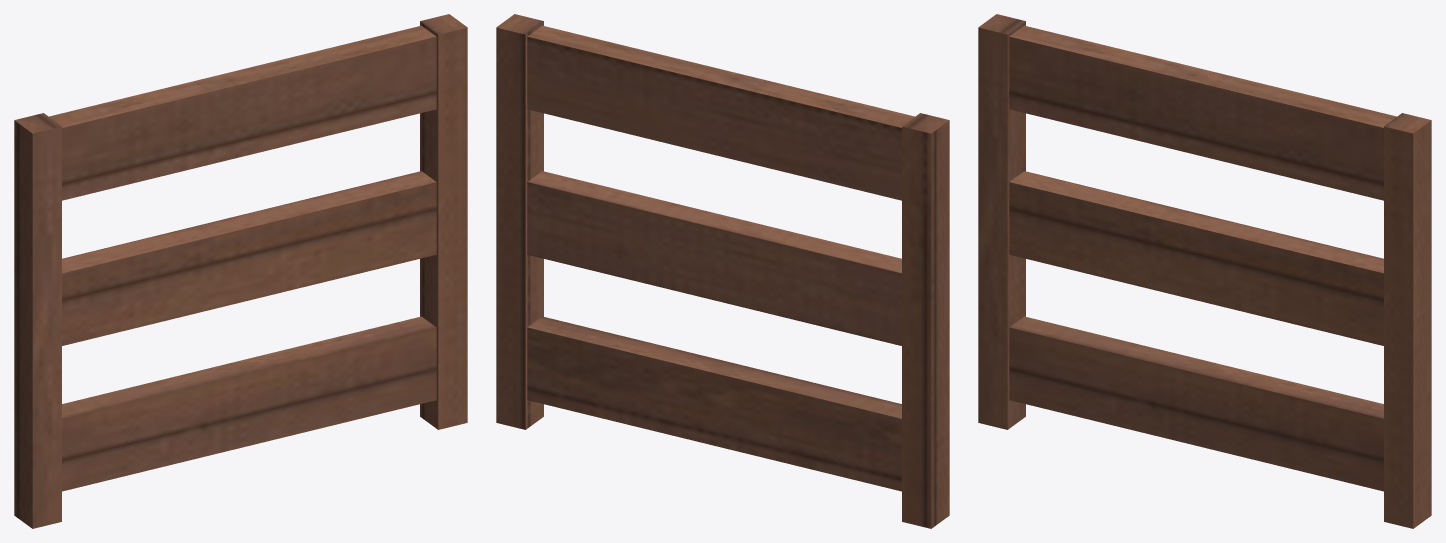
Rendered from Fence.fbx.
3 views of the same model, side by side, from view 1: azimuth 30°, elevation 25°; view 2: azimuth 150°, elevation 25°; view 3: azimuth 330°, elevation 25° (orthographic).
Visible parts, largest first — view 1: fence; view 2: fence; view 3: fence.
Part boxes in pixels (box(x1,y1,x2,y2)): fence: box(14, 14, 467, 528); fence: box(496, 14, 949, 528); fence: box(978, 14, 1431, 528).
Bounding box in the file's own units: 215 × 187 × 15.78.
